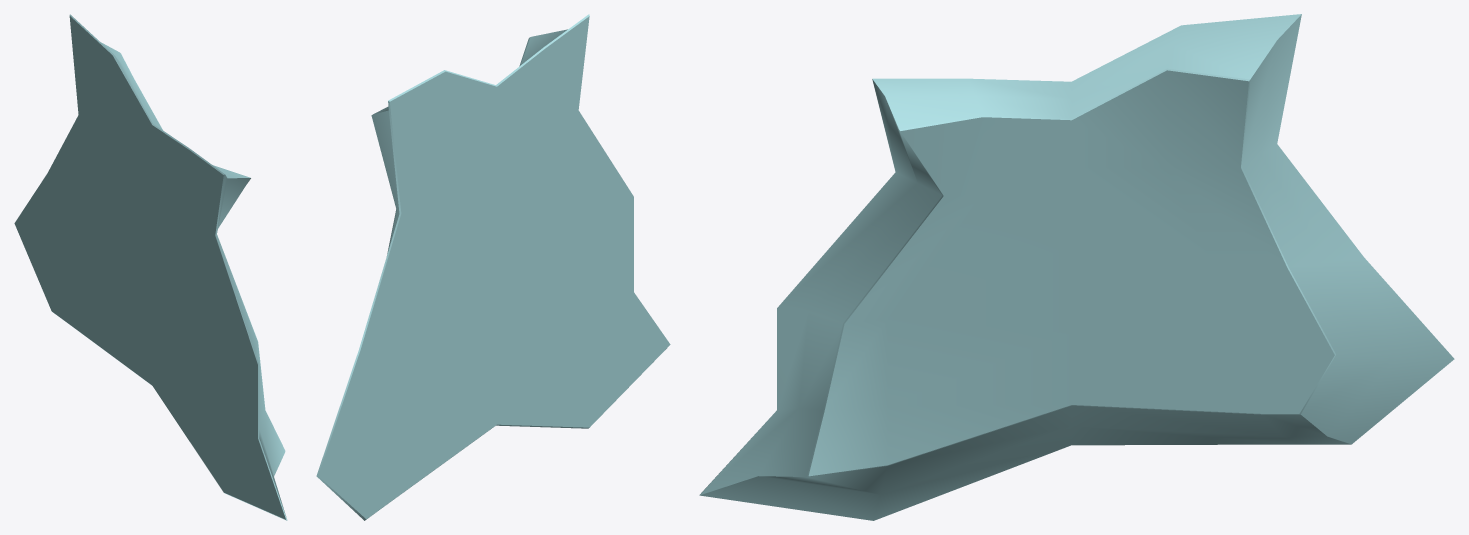
The model's file is IceSheet_04.fbx.
The picture shows the model from 3 angles, left to right: view 1: azimuth 30°, elevation 25°; view 2: azimuth 150°, elevation 25°; view 3: azimuth 270°, elevation 25°; orthographic projection. The views are drawn at different scales.
Parts seen in each view (by area): view 1: IceSheet_04; view 2: IceSheet_04; view 3: IceSheet_04.
Part boxes in pixels (x1,y1,x2,y2): IceSheet_04: (14, 14, 287, 520); IceSheet_04: (316, 14, 670, 520); IceSheet_04: (699, 14, 1454, 520).
Bounding box in the file's own units: 1134 × 10360 × 13990.
